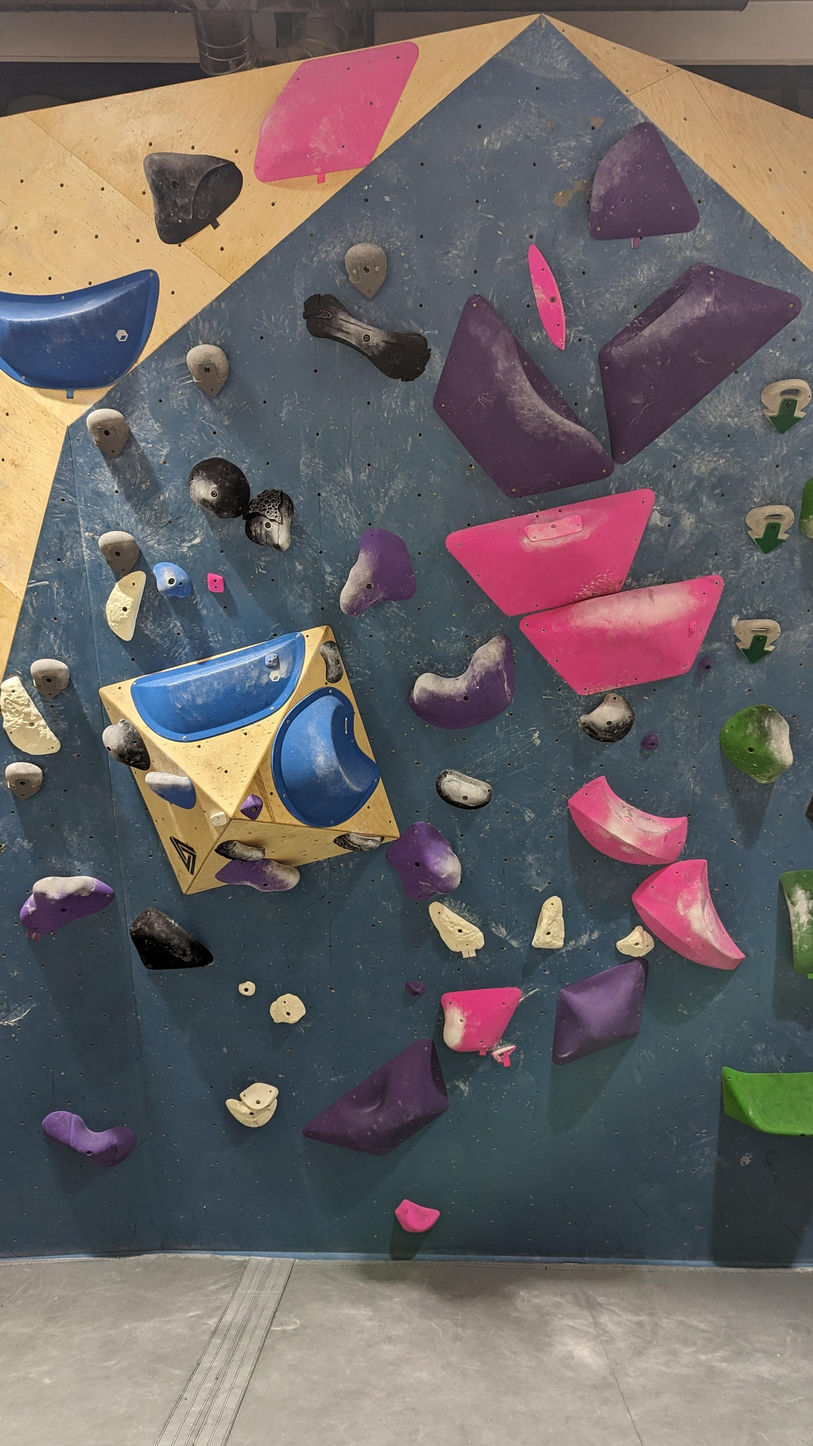black-hold: (550, 226, 808, 470), (392, 288, 620, 536), (442, 484, 675, 629), (517, 570, 743, 707), (237, 40, 436, 185), (298, 1033, 471, 1188), (127, 629, 324, 755), (245, 678, 394, 842), (0, 267, 172, 400), (624, 851, 749, 996), (554, 766, 697, 885), (398, 631, 538, 749), (529, 954, 672, 1069), (578, 117, 702, 242), (290, 286, 438, 390), (141, 138, 253, 248), (708, 691, 811, 795), (320, 519, 422, 620), (8, 853, 120, 943), (115, 901, 217, 999), (377, 812, 472, 913), (177, 446, 264, 529), (35, 1106, 140, 1174), (717, 1066, 813, 1139), (0, 673, 64, 770), (522, 240, 574, 354), (440, 986, 525, 1053), (415, 898, 490, 964), (333, 232, 403, 302), (574, 686, 644, 755), (737, 489, 805, 556), (750, 364, 813, 436), (96, 714, 159, 784), (175, 334, 241, 399), (726, 603, 790, 666), (75, 399, 138, 460), (99, 565, 148, 643), (240, 485, 296, 553), (429, 765, 497, 819), (214, 854, 302, 895), (779, 870, 813, 975), (89, 520, 148, 578), (21, 648, 78, 704), (0, 751, 51, 805), (141, 769, 200, 811), (390, 1197, 442, 1240), (531, 894, 569, 951), (213, 834, 267, 871), (265, 988, 310, 1032), (238, 1074, 283, 1117), (614, 923, 658, 966), (150, 560, 195, 600), (225, 1097, 278, 1128), (317, 639, 346, 685), (332, 830, 385, 854), (798, 476, 813, 540), (238, 792, 267, 821), (490, 1037, 517, 1065), (694, 654, 716, 675), (208, 810, 230, 830), (404, 980, 427, 998), (236, 979, 257, 998), (207, 572, 225, 593), (641, 733, 660, 750), (804, 794, 813, 826)
